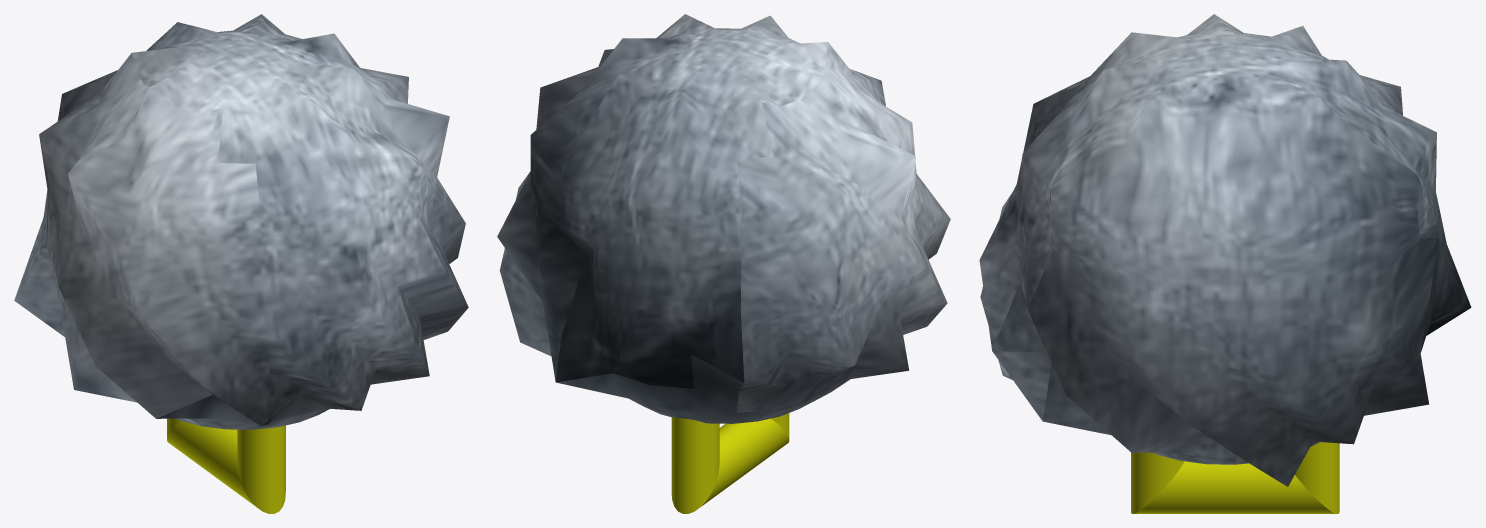
Rendered from ball.fbx.
3 views of the same model, side by side, from view 1: azimuth 30°, elevation 25°; view 2: azimuth 150°, elevation 25°; view 3: azimuth 270°, elevation 25° (orthographic). The views are drawn at different scales.
Visible parts, largest first — view 1: Mesh1; view 2: Mesh1; view 3: Mesh1.
Boxes of the visible parts, x1,y1,x2,y2 form: Mesh1: [14, 14, 468, 513]; Mesh1: [497, 14, 950, 513]; Mesh1: [979, 14, 1471, 513].
Bounding box in the file's own units: 4446 × 4681 × 4476.
Materials: 2 (1 with a texture image).
